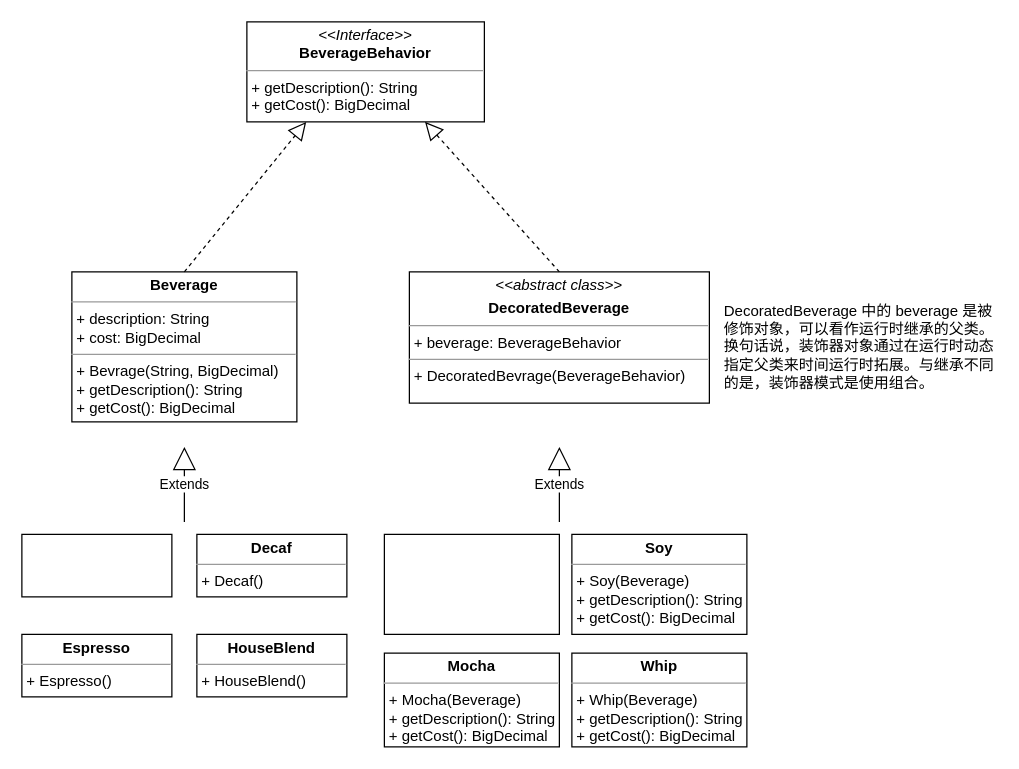
Some shapes in this 1019 by 769 pixel diagram are drawn without their labels. The centre of each missing label's shape, as x and y in pixels:
DarkRoast + DarkRoast(): the point at 96,565
Milk + Milk(Beverage) + getDescription(): String + getCost(): BigDecimal: the point at 471,583
